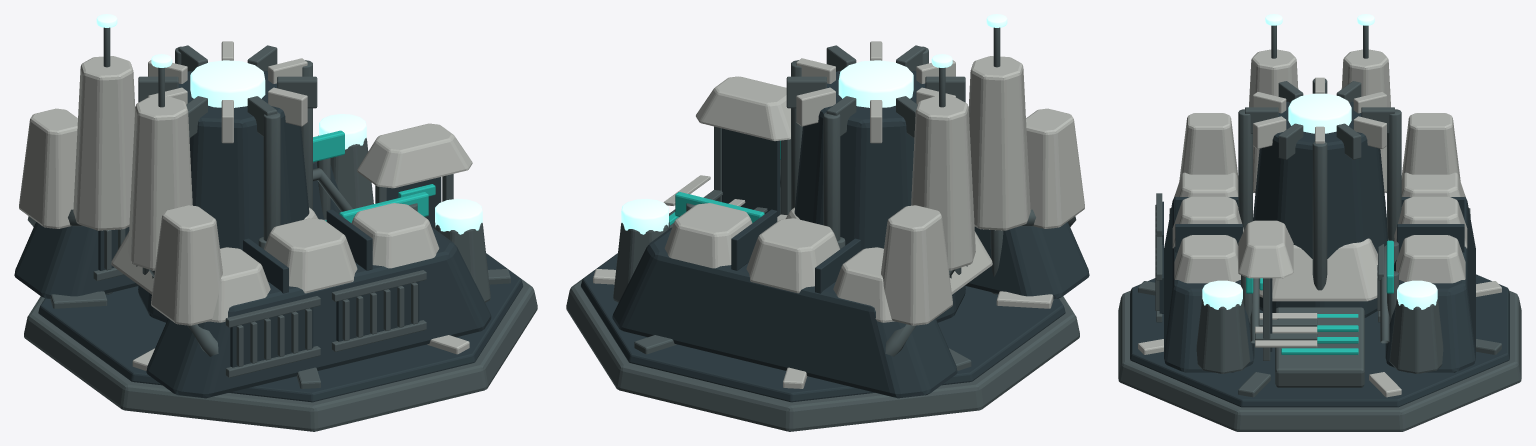
Rendered from SM_Anchor.fbx.
3 renders of one model, left to right at view 1: azimuth 30°, elevation 25°; view 2: azimuth 150°, elevation 25°; view 3: azimuth 270°, elevation 25°, orthographic. The views are drawn at different scales.
Visible parts, largest first — view 1: SM_Anchor; view 2: SM_Anchor; view 3: SM_Anchor.
Part boxes in pixels (left/top/right/bottom): SM_Anchor: left=14, top=14, right=537, bottom=431; SM_Anchor: left=566, top=14, right=1089, bottom=431; SM_Anchor: left=1118, top=14, right=1521, bottom=431.
Bounding box in the file's own units: 250 × 250 × 185.
